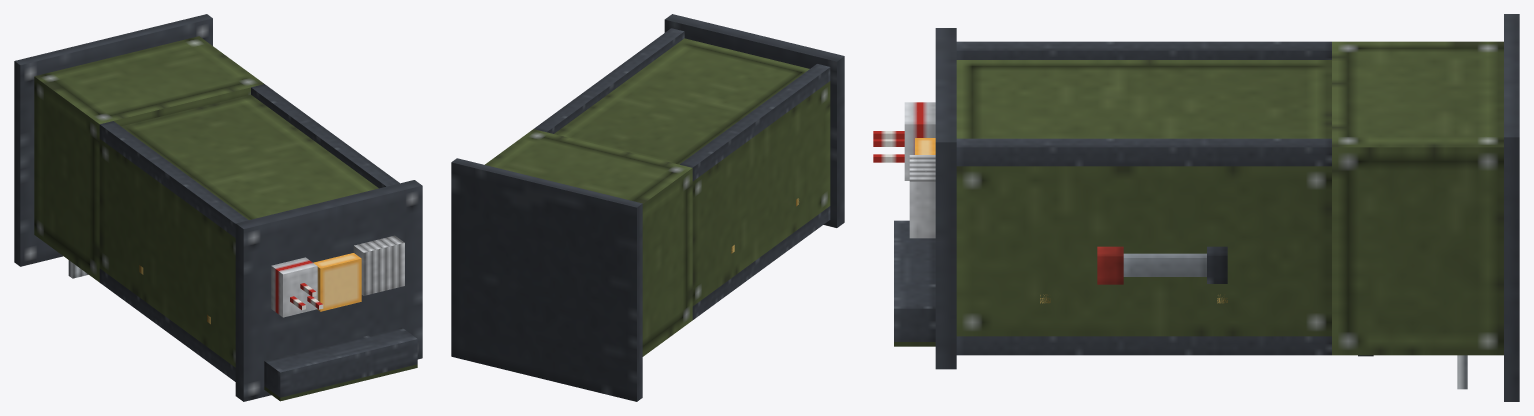
Rendered from cup_dispenser.obj.
The picture shows the model from 3 angles, left to right: view 1: azimuth 30°, elevation 25°; view 2: azimuth 150°, elevation 25°; view 3: azimuth 270°, elevation 25°; orthographic projection. The views are drawn at different scales.
Visible parts, largest first — view 1: cup_dispenser_Cabinet, cup_dispenser_Cap, cup_dispenser_Side_R, cup_dispenser_Back_panel, cup_dispenser_Base_plate, cup_dispenser_Header_back, cup_dispenser_Post_2, cup_dispenser_Post_3, cup_dispenser_Lid_stack, cup_dispenser_Lamp, cup_dispenser_Straw_box, cup_dispenser_Post_0 (+1 smaller); view 2: cup_dispenser_Base_plate, cup_dispenser_Side_R, cup_dispenser_Back_panel, cup_dispenser_Cabinet, cup_dispenser_Cap, cup_dispenser_Post_2, cup_dispenser_Post_3, cup_dispenser_Post_0; view 3: cup_dispenser_Side_L, cup_dispenser_Cabinet, cup_dispenser_Back_panel, cup_dispenser_Post_3, cup_dispenser_Cap, cup_dispenser_Post_1, cup_dispenser_Post_2, cup_dispenser_Base_plate, cup_dispenser_Header_back, cup_dispenser_Lid_stack, cup_dispenser_Lever_arm, cup_dispenser_Straw_box (+2 smaller).
Boxes of the visible parts, x1=… form: cup_dispenser_Cabinet: x1=34, y1=36, x2=263, y2=282; cup_dispenser_Cap: x1=235, y1=180, x2=422, y2=401; cup_dispenser_Side_R: x1=99, y1=139, x2=235, y2=367; cup_dispenser_Back_panel: x1=121, y1=94, x2=378, y2=219; cup_dispenser_Base_plate: x1=14, y1=14, x2=212, y2=266; cup_dispenser_Header_back: x1=264, y1=327, x2=417, y2=397; cup_dispenser_Post_2: x1=99, y1=121, x2=248, y2=237; cup_dispenser_Post_3: x1=251, y1=84, x2=399, y2=188; cup_dispenser_Lid_stack: x1=353, y1=235, x2=404, y2=295; cup_dispenser_Lamp: x1=313, y1=253, x2=361, y2=311; cup_dispenser_Straw_box: x1=271, y1=257, x2=317, y2=317; cup_dispenser_Post_0: x1=99, y1=268, x2=235, y2=381; cup_dispenser_Base_plate: x1=451, y1=158, x2=642, y2=401; cup_dispenser_Side_R: x1=692, y1=81, x2=830, y2=306; cup_dispenser_Back_panel: x1=554, y1=38, x2=809, y2=164; cup_dispenser_Cabinet: x1=485, y1=129, x2=692, y2=356; cup_dispenser_Cap: x1=664, y1=14, x2=844, y2=227; cup_dispenser_Post_2: x1=680, y1=64, x2=830, y2=181; cup_dispenser_Post_3: x1=534, y1=28, x2=684, y2=133; cup_dispenser_Post_0: x1=692, y1=206, x2=830, y2=319; cup_dispenser_Side_L: x1=956, y1=166, x2=1331, y2=336; cup_dispenser_Cabinet: x1=1332, y1=41, x2=1503, y2=355; cup_dispenser_Back_panel: x1=956, y1=60, x2=1331, y2=138; cup_dispenser_Post_3: x1=956, y1=138, x2=1331, y2=166; cup_dispenser_Cap: x1=935, y1=28, x2=956, y2=369; cup_dispenser_Post_1: x1=956, y1=336, x2=1331, y2=355; cup_dispenser_Post_2: x1=956, y1=41, x2=1331, y2=59; cup_dispenser_Base_plate: x1=1504, y1=14, x2=1519, y2=401; cup_dispenser_Header_back: x1=894, y1=220, x2=935, y2=341; cup_dispenser_Lid_stack: x1=909, y1=155, x2=935, y2=238; cup_dispenser_Lever_arm: x1=1123, y1=253, x2=1206, y2=276; cup_dispenser_Straw_box: x1=904, y1=102, x2=935, y2=180.
Bounding box in the file's own units: 0.8813 × 0.9062 × 1.94.
